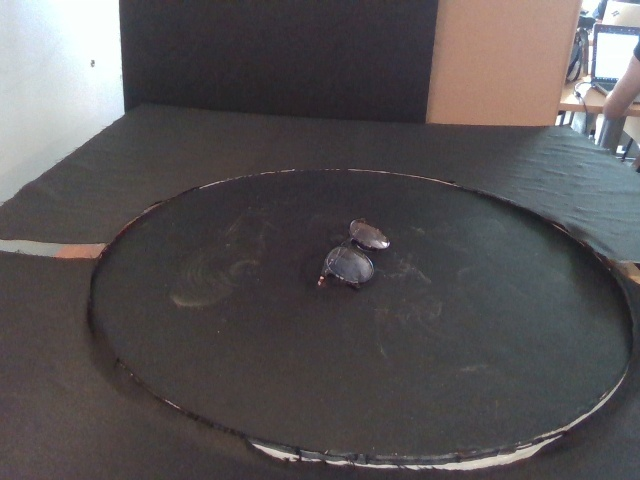glasses: (317, 216, 391, 299)
